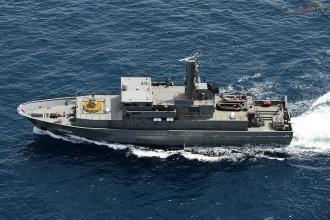warship: (20, 50, 302, 149)
